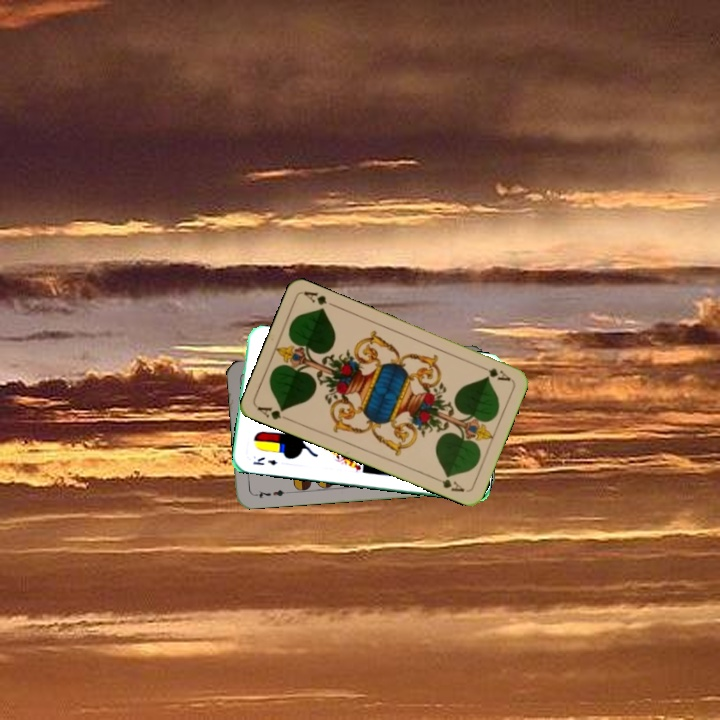E7: (250, 486, 291, 501)
EK: (249, 453, 279, 468)
GA: (475, 361, 513, 384), (254, 403, 294, 423)
